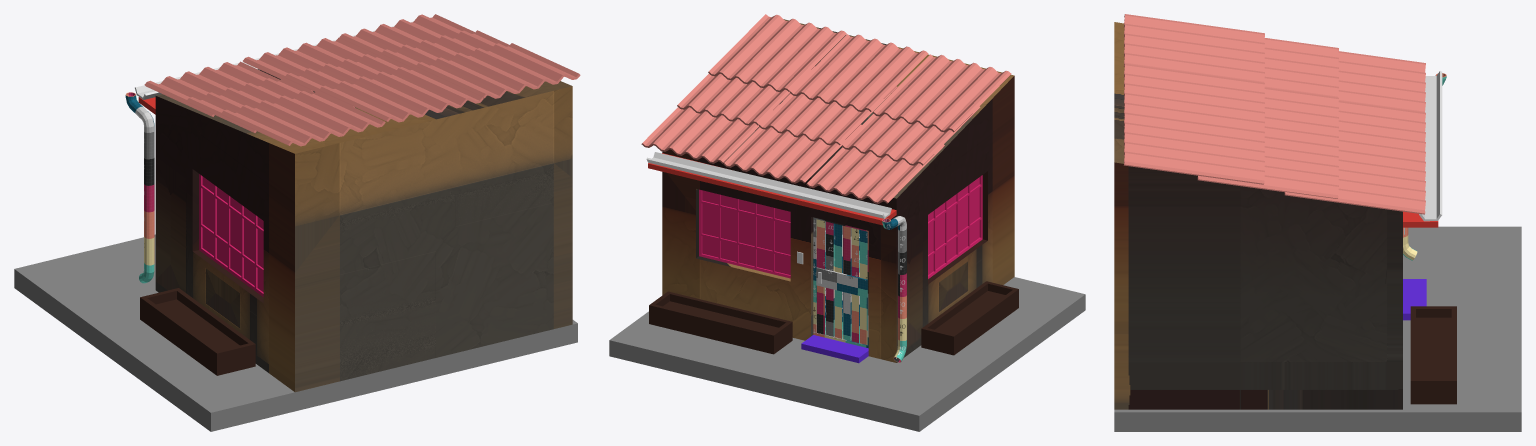
Rendered from Casa2.glb.
The picture shows the model from 3 angles, left to right: view 1: azimuth 30°, elevation 25°; view 2: azimuth 150°, elevation 25°; view 3: azimuth 270°, elevation 25°; orthographic projection. The views are drawn at different scales.
Visible parts, largest first — view 1: Cube.028, BézierCurve.008, Cube.026, Cube.006, Cube.040, Cube.049; view 2: BézierCurve.008, Cube.028, Cube.026, Cube.040, Cube.006, Cube.037, BézierCurve.009, Cube.029, Cube.049, Cube.033; view 3: Cube.028, BézierCurve.008, Cube.026, Cube.006, BézierCurve.009, Cube.033, Cube.029.
Boxes of the visible parts, x1=… form: Cube.028: x1=155, y1=70, x2=572, y2=392; BézierCurve.008: x1=144, y1=14, x2=580, y2=146; Cube.026: x1=14, y1=234, x2=577, y2=431; Cube.006: x1=140, y1=288, x2=255, y2=375; Cube.040: x1=199, y1=174, x2=263, y2=296; Cube.049: x1=125, y1=92, x2=154, y2=283; BézierCurve.008: x1=641, y1=14, x2=1011, y2=203; Cube.028: x1=662, y1=19, x2=1014, y2=362; Cube.026: x1=609, y1=277, x2=1085, y2=431; Cube.040: x1=699, y1=175, x2=982, y2=278; Cube.006: x1=649, y1=281, x2=1018, y2=355; Cube.037: x1=813, y1=217, x2=868, y2=348; BézierCurve.009: x1=646, y1=152, x2=891, y2=218; Cube.029: x1=648, y1=153, x2=896, y2=225; Cube.049: x1=882, y1=216, x2=906, y2=362; Cube.033: x1=801, y1=335, x2=868, y2=363; Cube.028: x1=1114, y1=22, x2=1402, y2=409; BézierCurve.008: x1=1123, y1=14, x2=1425, y2=214; Cube.026: x1=1114, y1=226, x2=1521, y2=431; Cube.006: x1=1410, y1=306, x2=1456, y2=404; BézierCurve.009: x1=1419, y1=71, x2=1442, y2=221; Cube.033: x1=1403, y1=279, x2=1426, y2=320; Cube.029: x1=1403, y1=211, x2=1438, y2=227.
Bounding box in the file's own units: 5.94 × 4.02 × 5.38.
Materials: 11 (3 with a texture image).
